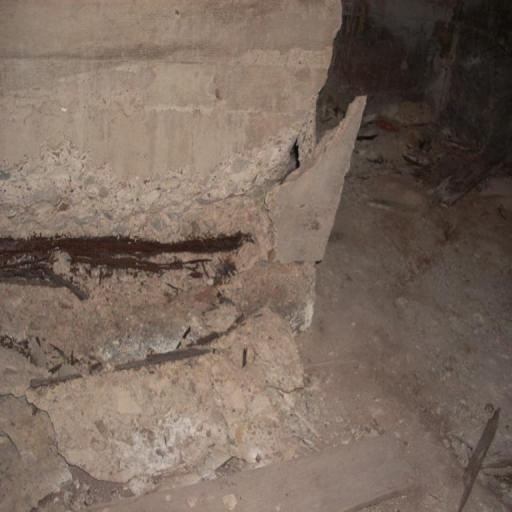spalling: (1, 122, 312, 382)
